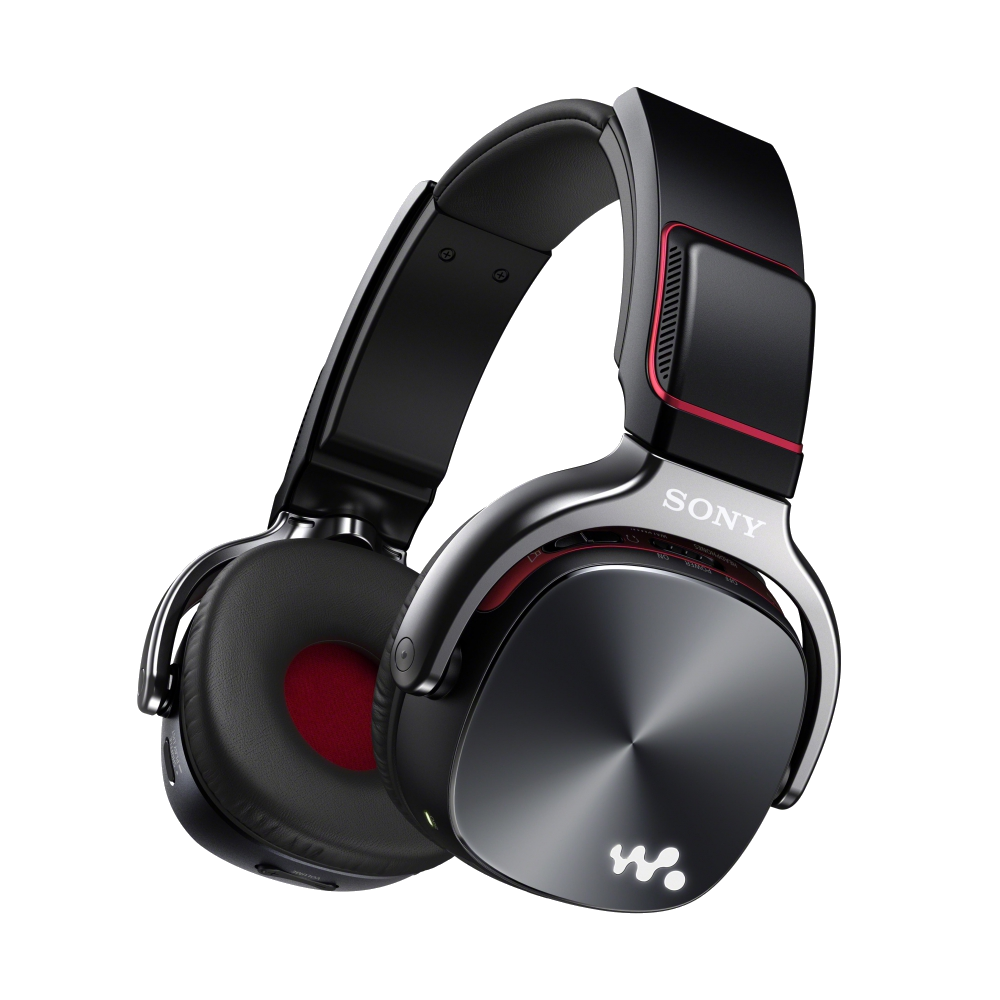headphone: (152, 103, 864, 921)
